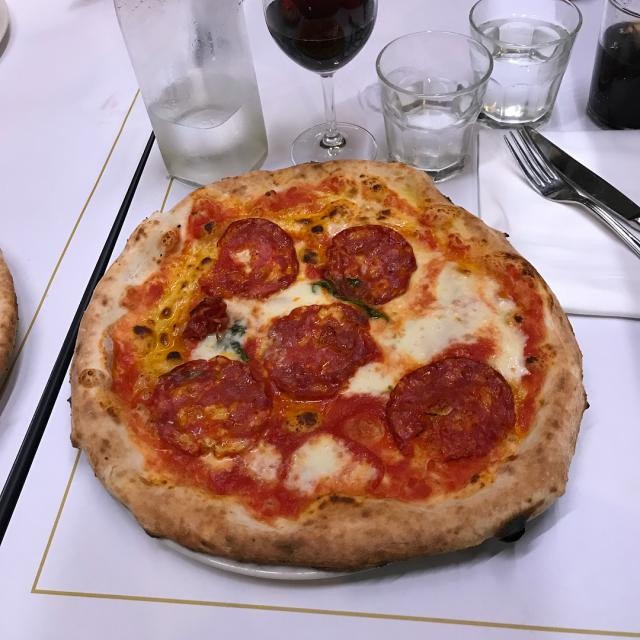basil: (310, 278, 394, 322), (218, 338, 250, 364)
pepperoni: (383, 356, 517, 463), (143, 352, 275, 460), (260, 303, 376, 402), (207, 216, 301, 302), (322, 224, 418, 306)
pizza: (63, 156, 594, 572)
